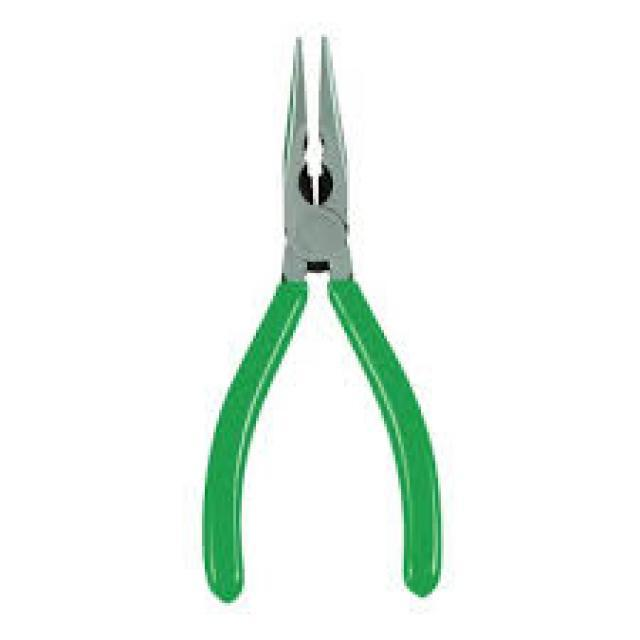pliers: (186, 24, 458, 610)
